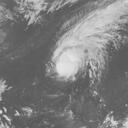cyclone: (50, 9, 101, 83)
